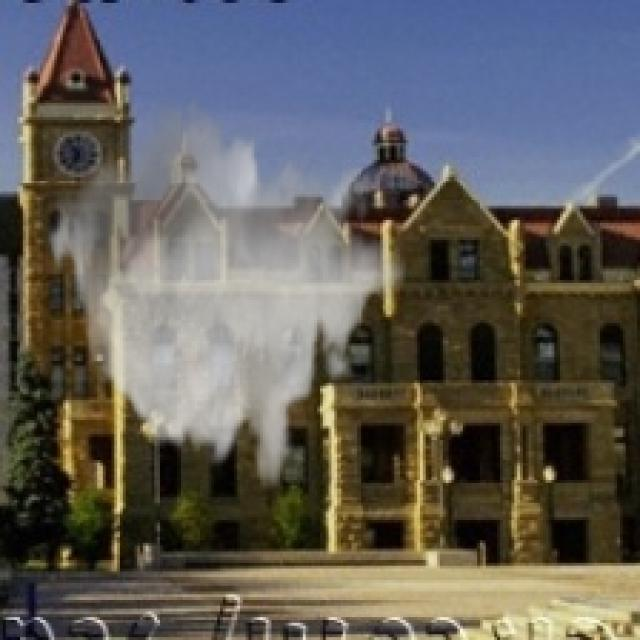smoke: (46, 92, 408, 494)
